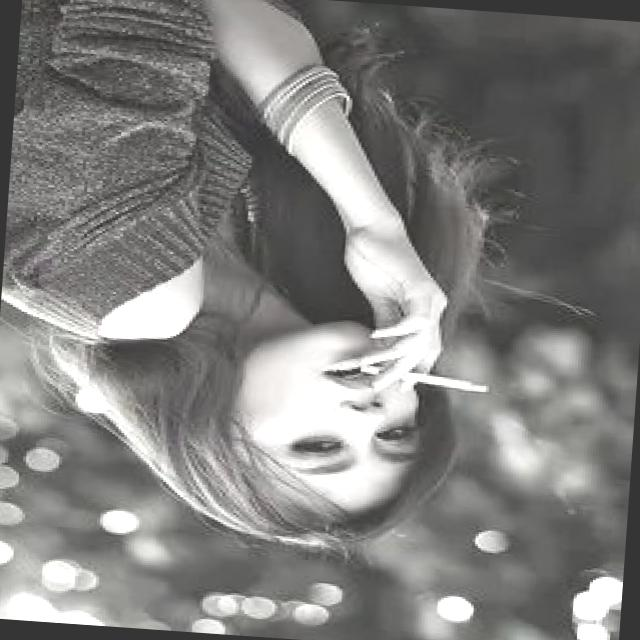cigarette: (353, 354, 499, 394)
